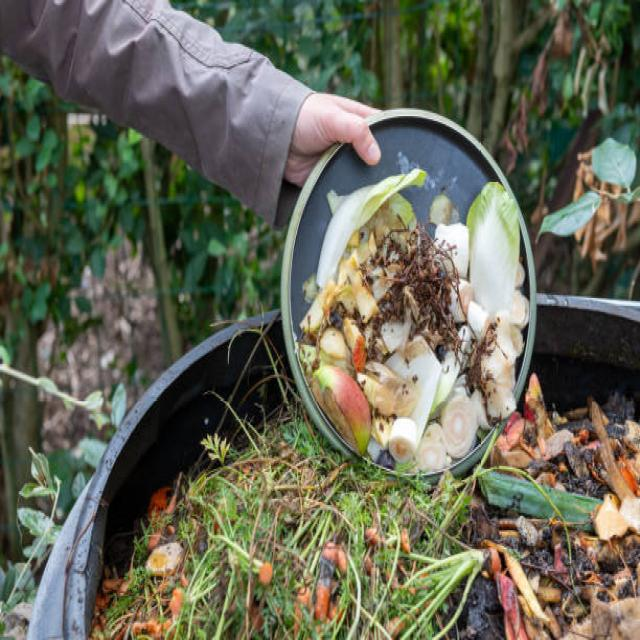Organic: (134, 425, 640, 640), (324, 171, 534, 474)
